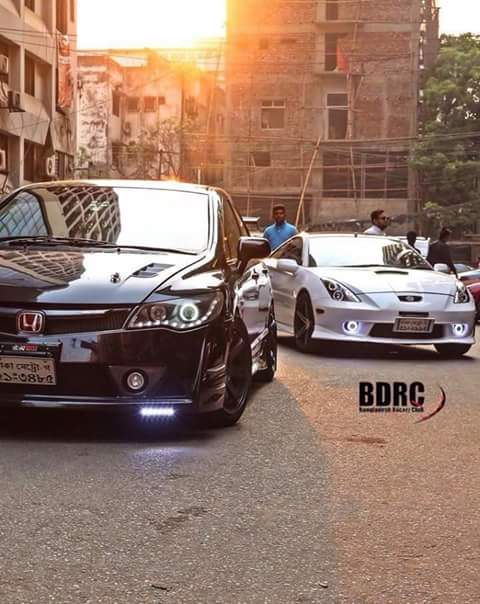registration_plate: (1, 355, 57, 385), (397, 318, 431, 329)
